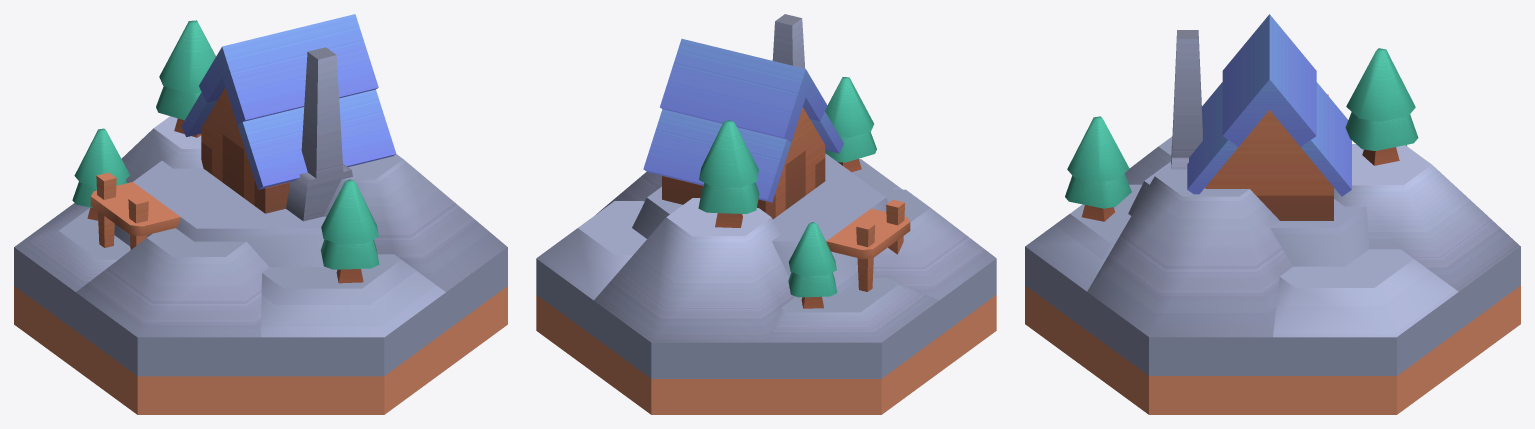
Rendered from building-cabin.glb.
The picture shows the model from 3 angles, left to right: view 1: azimuth 30°, elevation 25°; view 2: azimuth 150°, elevation 25°; view 3: azimuth 270°, elevation 25°; orthographic projection. The views are drawn at different scales.
Parts seen in each view (by area): view 1: building-cabin; view 2: building-cabin; view 3: building-cabin.
Boxes of the visible parts, x1=… form: building-cabin: x1=14, y1=14, x2=507, y2=414; building-cabin: x1=536, y1=14, x2=996, y2=414; building-cabin: x1=1025, y1=14, x2=1520, y2=414.
Bounding box in the file's own units: 1 × 0.7684 × 1.15.
1 material, 1 textured.
